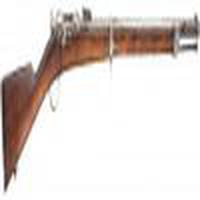gun: (4, 15, 194, 178)
